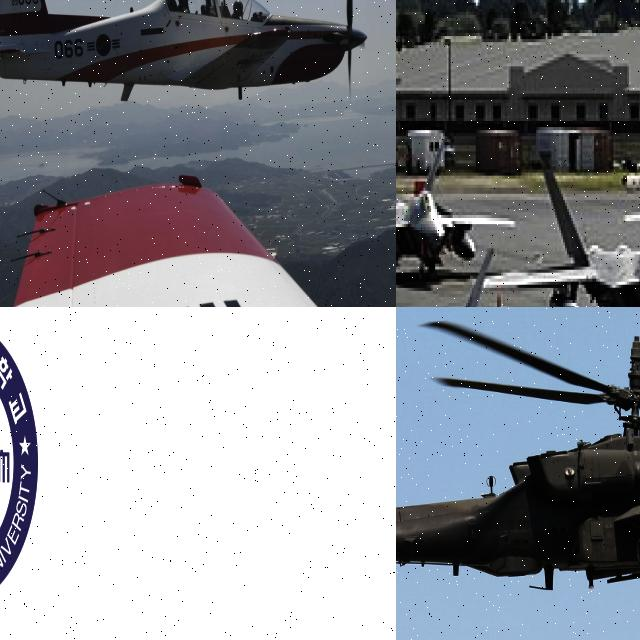Apache: (396, 324, 640, 630)
F22: (489, 127, 640, 307), (396, 130, 520, 276)
KAU_Marker: (0, 316, 38, 608)
KT-1: (0, 0, 362, 98)
